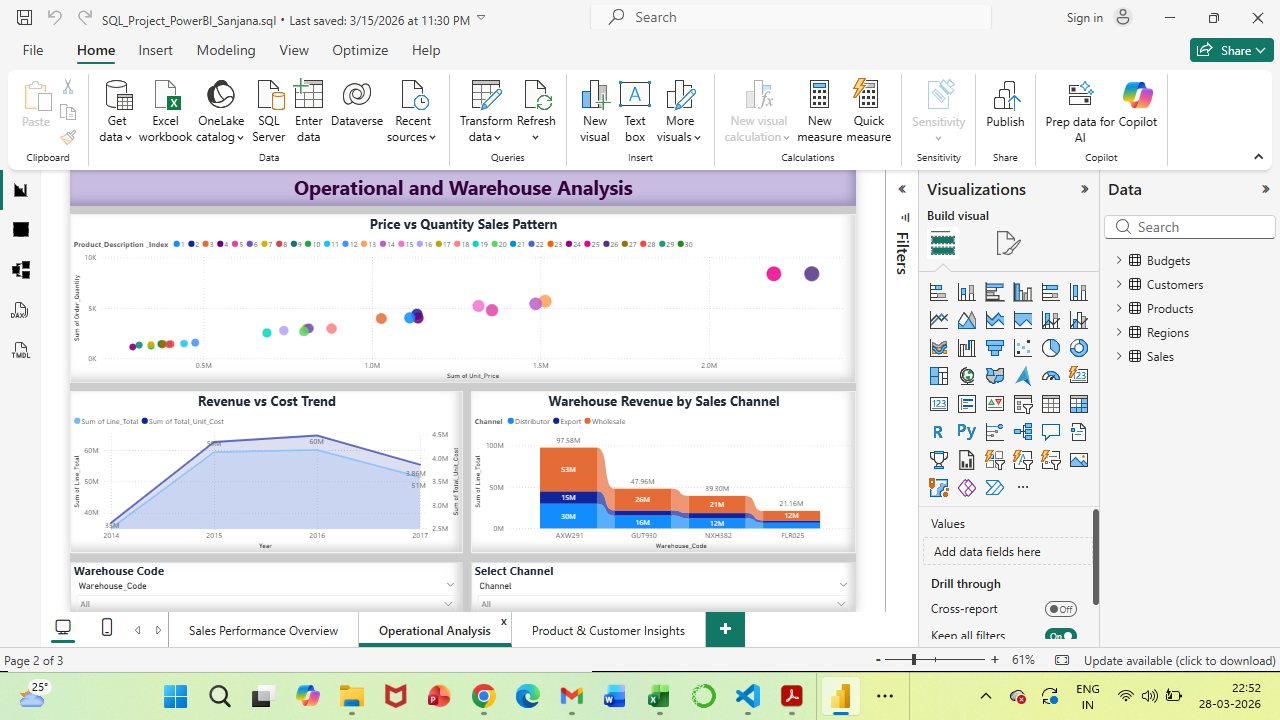

This screenshot's page, from the dashboard's own definition file:
{"tool":"powerbi","page":{"name":"Operational Analysis","canvas":[1280,720],"ordinal":1},"visuals":[{"type":"scatterChart","title":"Price vs Quantity Sales Pattern","fields":{"X":["Sum(Sales.Unit_Price)"],"Y":["Sum(Sales.Order_Quantity)"],"Size":["Sum(Sales.Line_Total)"],"Category":["Sales.Product_Description _Index"],"Series":["Sales.Product_Description _Index"]},"box":[0,71.7,1280.4,275.3],"z":0},{"type":"columnChart","title":"Warehouse Revenue by Sales Channel","fields":{"Category":["Sales.Warehouse_Code"],"Y":["Sum(Sales.Line_Total)"],"Series":["Sales.Channel"]},"box":[653.2,360,627.1,263.9],"z":1000},{"type":"areaChart","title":"Revenue vs Cost Trend","fields":{"Category":["Sales.OrderDate.Variation.Date Hierarchy.Year","Sales.OrderDate.Variation.Date Hierarchy.Quarter","Sales.OrderDate.Variation.Date Hierarchy.Month","Sales.OrderDate.Variation.Date Hierarchy.Day"],"Y":["Sum(Sales.Line_Total)"],"Y2":["Sum(Sales.Total_Unit_Cost)"]},"box":[0,360,640.2,263.9],"z":2000},{"type":"slicer","title":"Warehouse Code","fields":{"Values":["Sales.Warehouse_Code"]},"box":[0,638.6,640.2,81.4],"z":6000},{"type":"slicer","title":"Select Channel","fields":{"Values":["Sales.Channel"]},"box":[653.2,638.6,627.1,81.4],"z":7000},{"type":"textbox","box":[0,0,1280.7,58.1],"z":10000}]}

Visuals, with their boxes on the page's 1280x720 design canvas (x1, y1, x2, y2). These are canvas units, not pixel positions in the 1280x720 screenshot, which may show the page scaled, cropped or inside an application window:
"Price vs Quantity Sales Pattern" scatterChart: x1=0, y1=72, x2=1280, y2=347
"Warehouse Revenue by Sales Channel" columnChart: x1=653, y1=360, x2=1280, y2=624
"Revenue vs Cost Trend" areaChart: x1=0, y1=360, x2=640, y2=624
"Warehouse Code" slicer: x1=0, y1=639, x2=640, y2=720
"Select Channel" slicer: x1=653, y1=639, x2=1280, y2=720
textbox: x1=0, y1=0, x2=1281, y2=58
